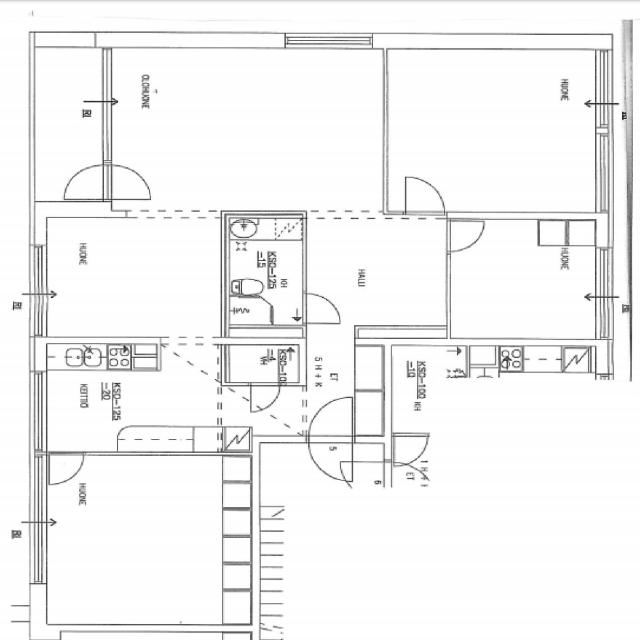door: (400, 172, 448, 220), (306, 394, 355, 441), (304, 439, 353, 486), (108, 161, 154, 203), (60, 161, 105, 202), (391, 432, 432, 472), (445, 217, 488, 254), (44, 452, 86, 488), (301, 290, 344, 324), (246, 382, 282, 414)
window: (590, 122, 621, 218), (590, 47, 621, 111), (589, 243, 621, 305), (589, 293, 620, 344), (282, 33, 373, 50), (25, 241, 50, 300), (97, 99, 116, 164), (588, 98, 618, 139), (26, 292, 51, 341), (97, 46, 115, 102)
zone: (110, 43, 382, 208), (42, 450, 254, 624), (384, 46, 604, 212), (39, 213, 225, 338), (36, 347, 228, 455), (447, 217, 610, 341), (304, 216, 448, 329), (31, 33, 105, 206), (227, 216, 303, 327), (34, 340, 150, 369), (222, 345, 296, 385), (228, 296, 272, 328)
